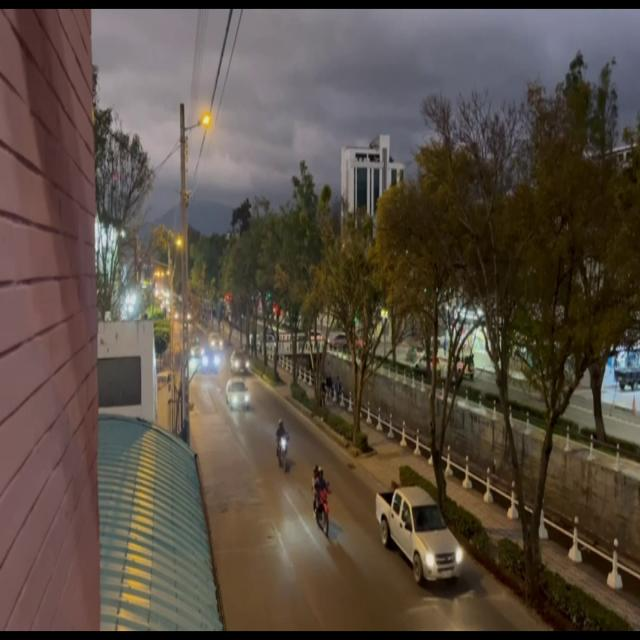CMT: (376, 486, 464, 584)
MOTORCYCLE: (312, 464, 333, 534), (276, 418, 290, 472)
SED: (226, 379, 250, 411)
